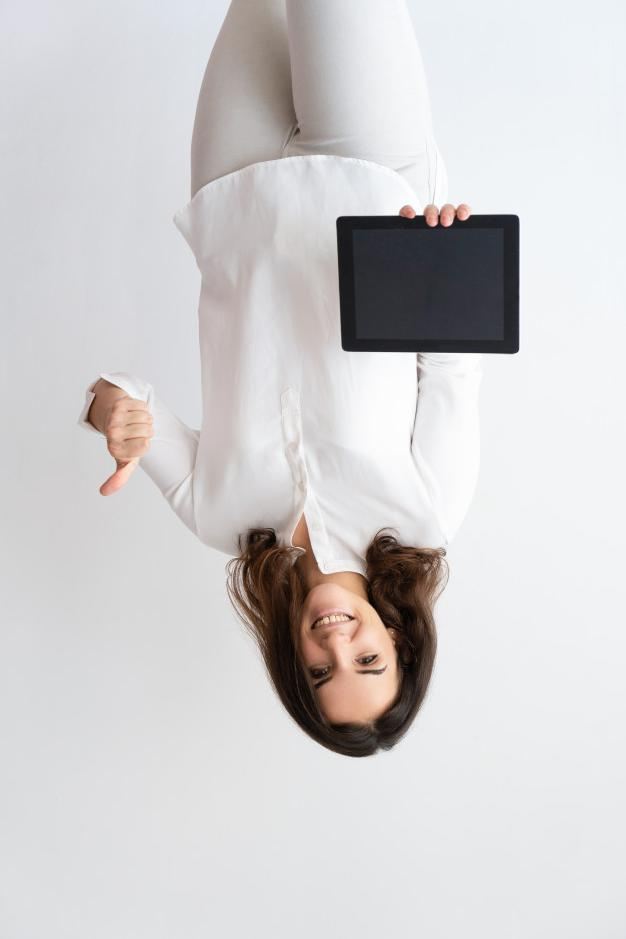thumbsdown: (99, 397, 153, 496)
